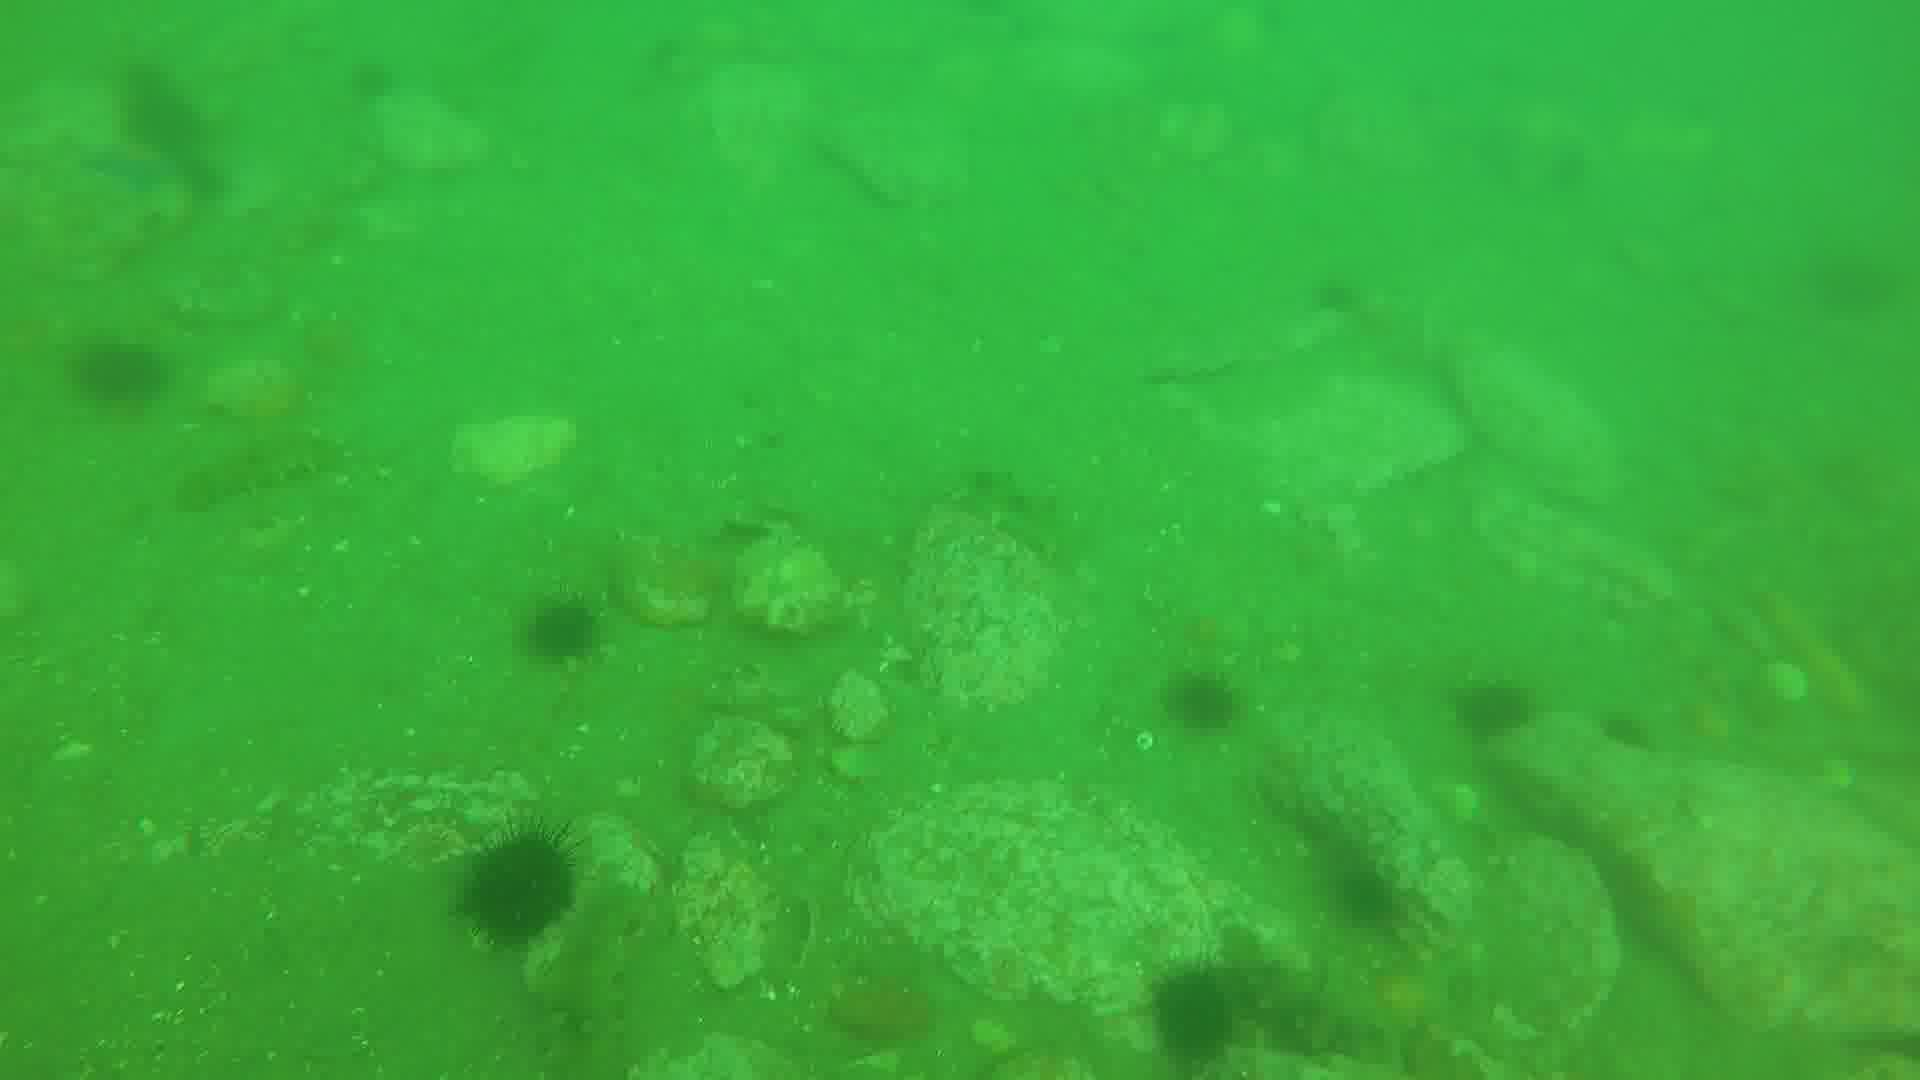echinus: (451, 837, 579, 942), (1158, 961, 1247, 1069), (516, 593, 604, 669), (76, 338, 166, 407), (1164, 663, 1244, 740), (1458, 680, 1543, 748), (1597, 703, 1660, 769)
holothurian: (1487, 501, 1673, 615), (1238, 943, 1371, 1073), (952, 458, 1075, 564), (178, 436, 324, 520)
starfish: (96, 138, 187, 204)
